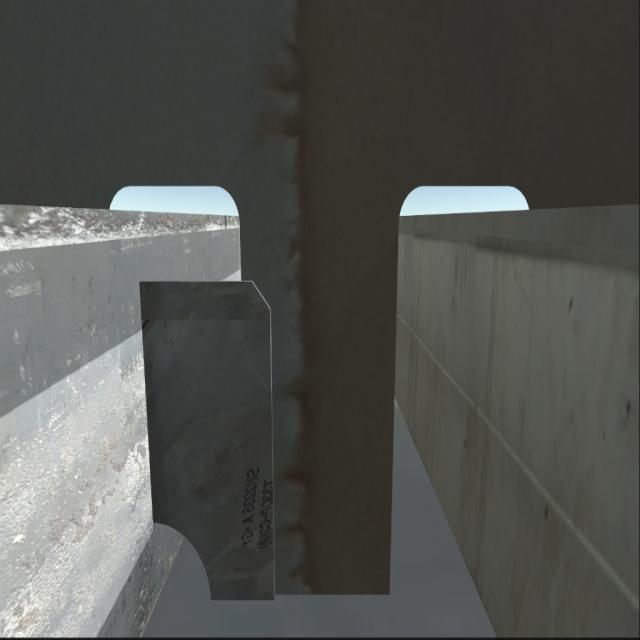fillet_hole: (152, 523, 214, 606)
fillet_yong_jeop_jang: (202, 585, 399, 606)
longi_yong_jeop_jang: (138, 274, 158, 524)
plate_CP03: (147, 272, 275, 600)
